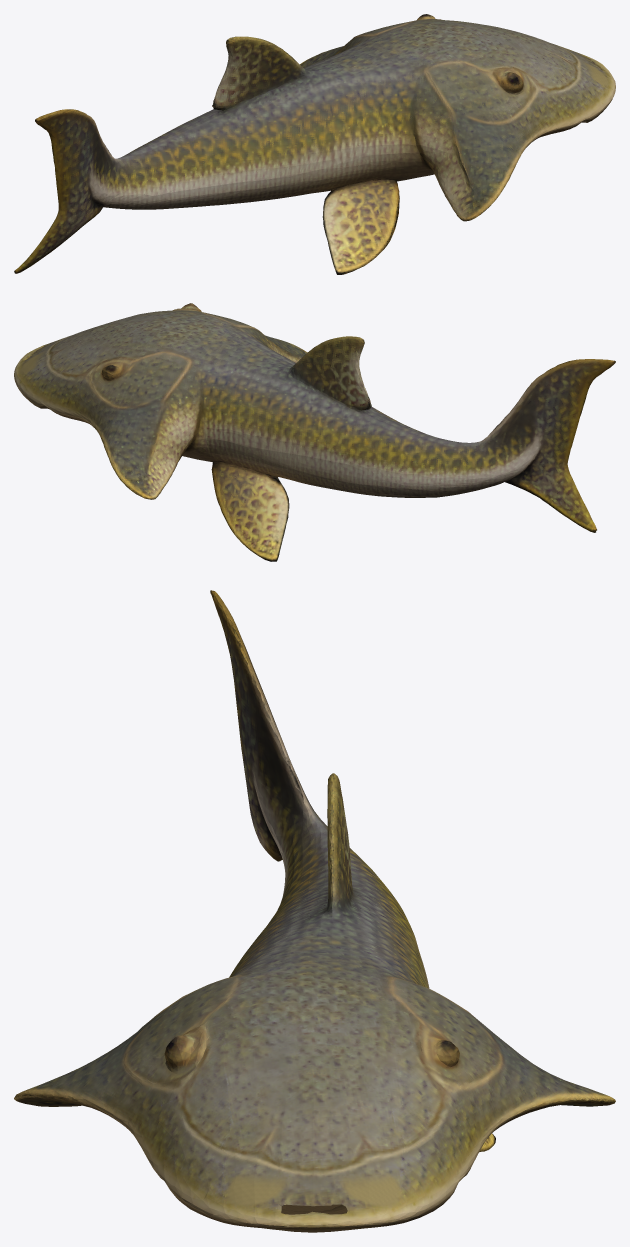
The picture shows the model from 3 angles, top to bottom: view 1: azimuth 30°, elevation 25°; view 2: azimuth 150°, elevation 25°; view 3: azimuth 270°, elevation 25°; orthographic projection. The views are drawn at different scales.
Parts seen in each view (by area): view 1: world; view 2: world; view 3: world.
Boxes of the visible parts, box(x1,y1,x2,y2) form: world: box(14, 14, 615, 274); world: box(14, 303, 615, 561); world: box(14, 590, 615, 1232).
Bounding box in the file's own units: 1 × 0.3456 × 0.5582.
Materials: 1 (1 with a texture image).
